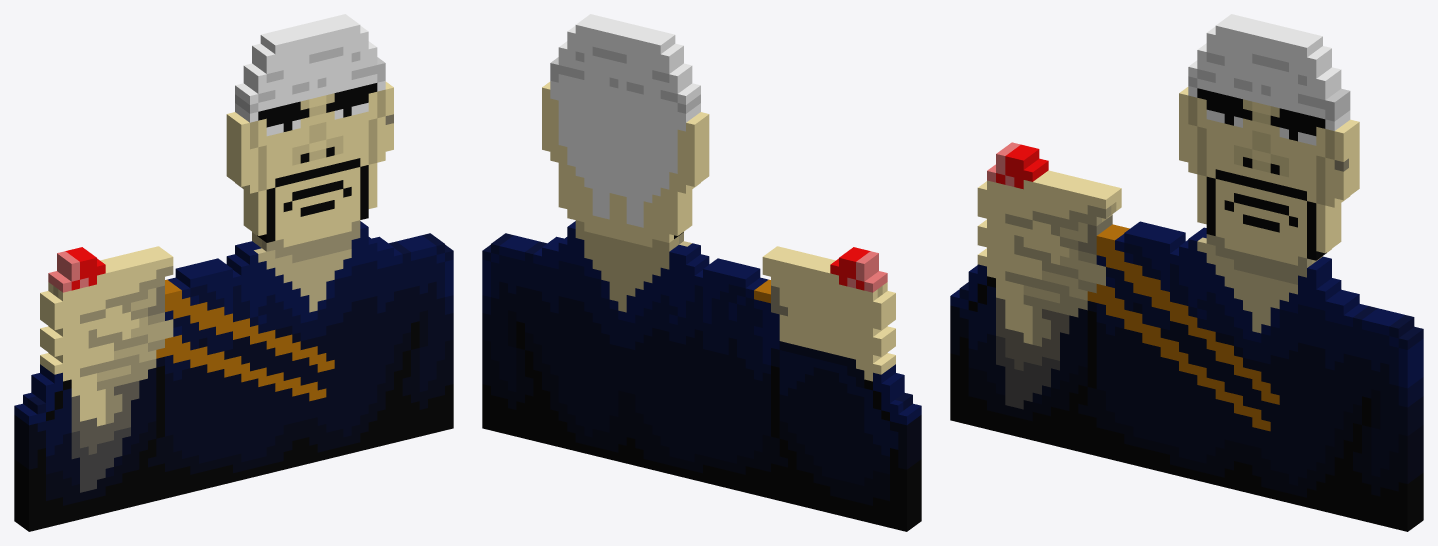
The model's file is shisyo1.fbx.
3 views of the same model, side by side, from view 1: azimuth 30°, elevation 25°; view 2: azimuth 150°, elevation 25°; view 3: azimuth 330°, elevation 25° (orthographic). The views are drawn at different scales.
Parts seen in each view (by area): view 1: ObjObject.003; view 2: ObjObject.003; view 3: ObjObject.003.
Boxes of the visible parts, x1=… form: ObjObject.003: x1=14, y1=14, x2=453, y2=531; ObjObject.003: x1=482, y1=14, x2=921, y2=531; ObjObject.003: x1=950, y1=14, x2=1423, y2=531.
Size of the model in its own units: 500 by 480 by 30.
Materials: 1 (1 with a texture image).
